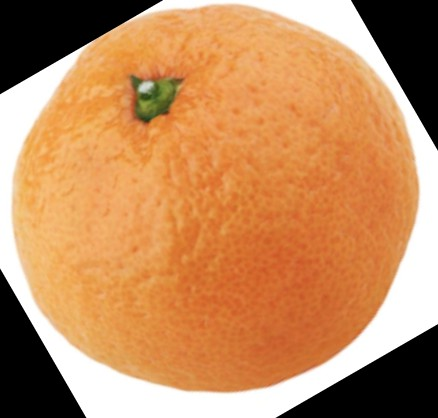fresh_orange: (14, 4, 421, 395)
